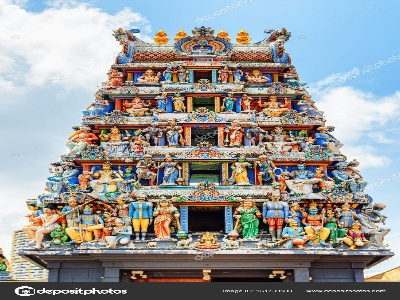gopura: (35, 34, 388, 245)
